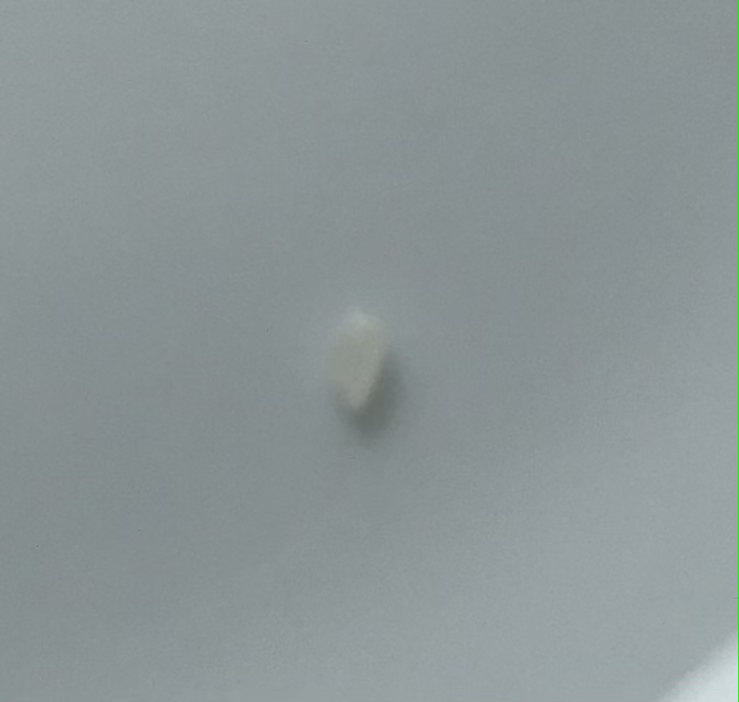Gao Tam: (328, 307, 390, 429)
